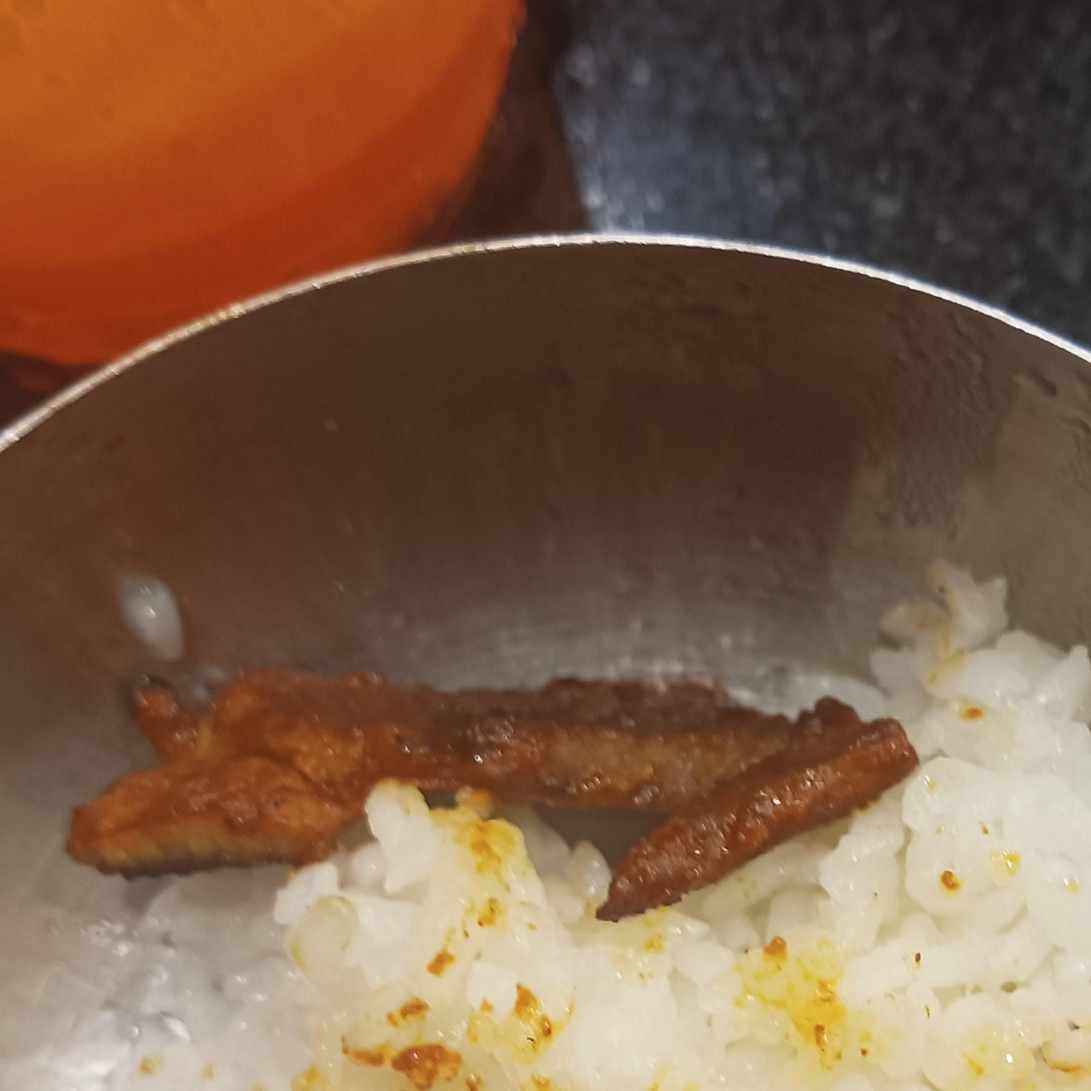Overcooked: (65, 671, 918, 920)
